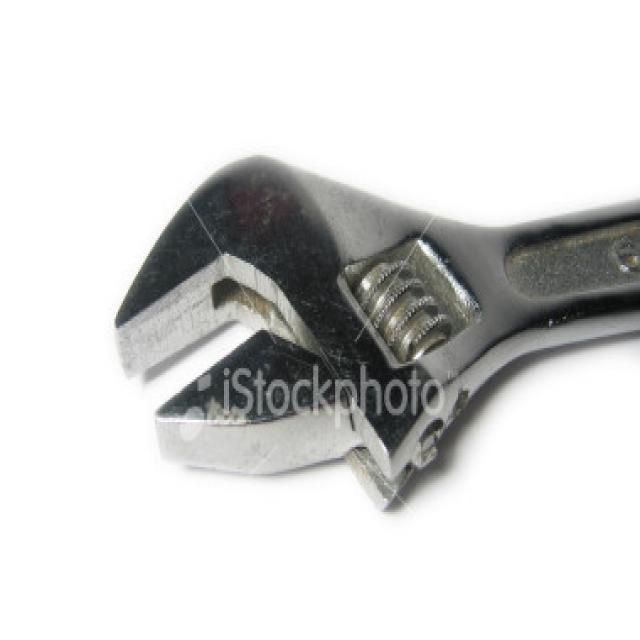wrench: (106, 139, 640, 517)
